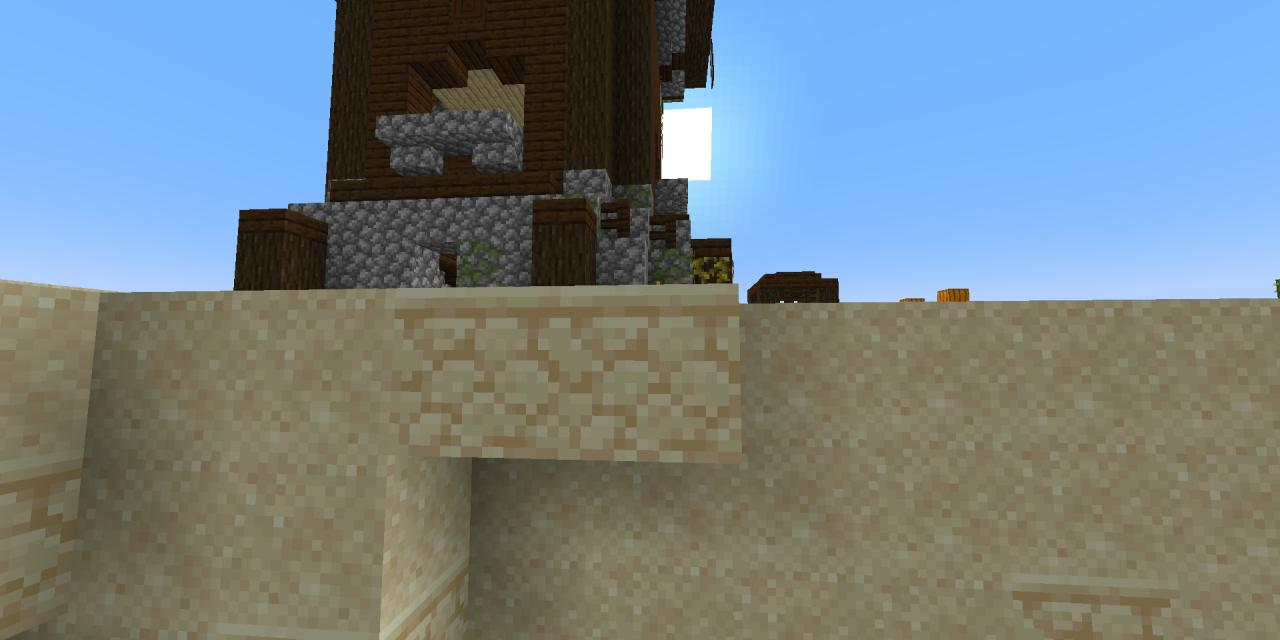pillager outpost: (226, 0, 752, 318)
